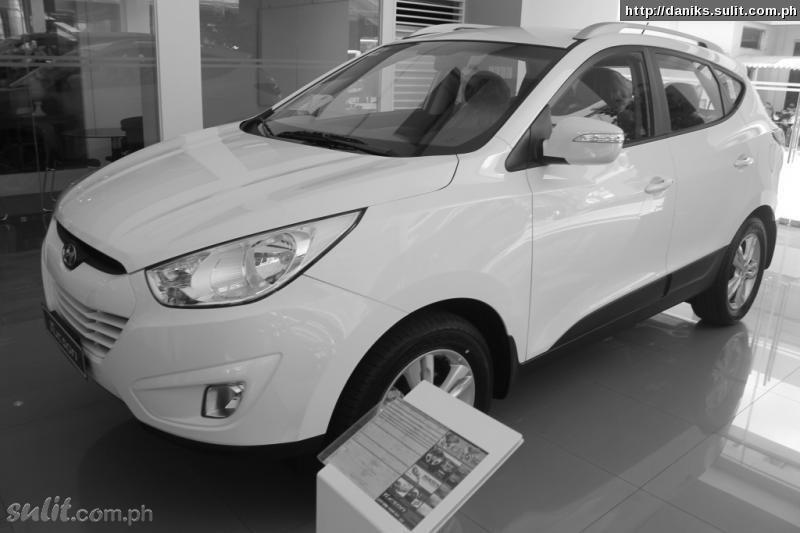car: (38, 22, 790, 450)
